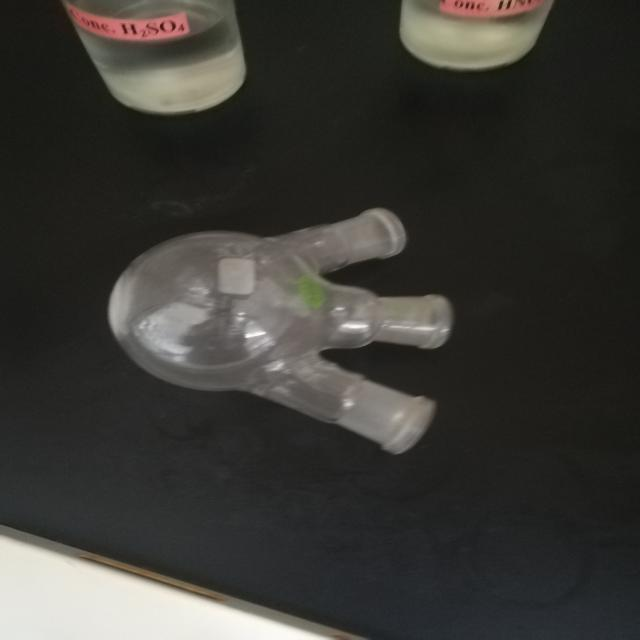Round_Bottom_Flask_Borosilicate_Glass_3_Neck: (67, 171, 487, 506)
